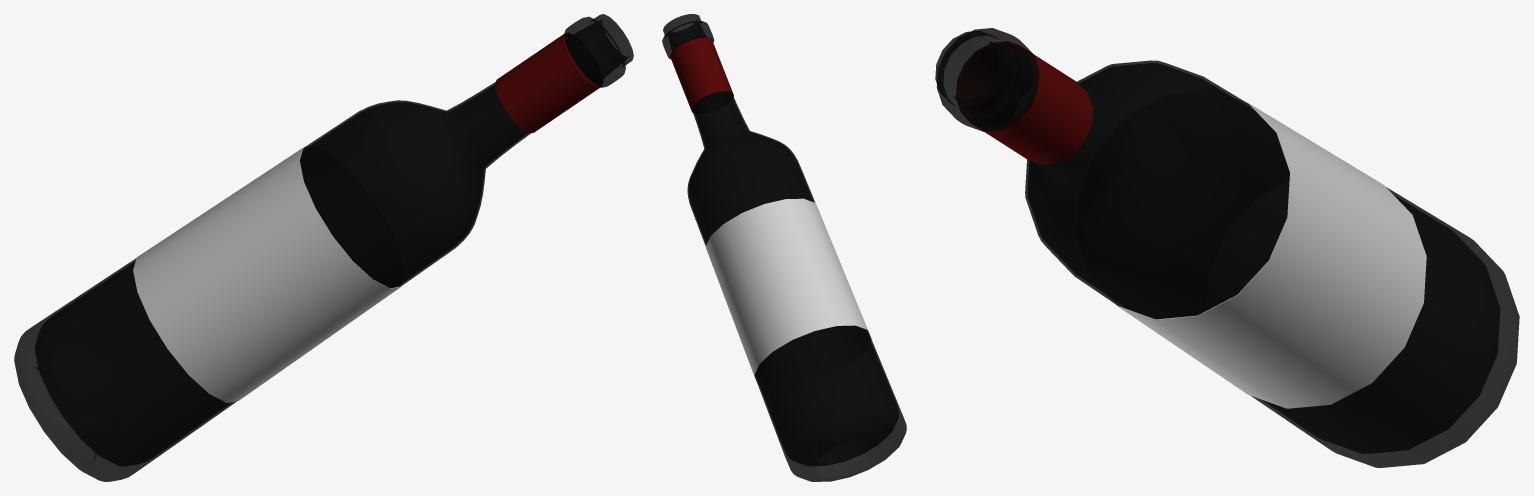
File: Winebottle.fbx
3 renders of one model, left to right at view 1: azimuth 30°, elevation 25°; view 2: azimuth 150°, elevation 25°; view 3: azimuth 270°, elevation 25°, orthographic. The views are drawn at different scales.
Visible parts, largest first — view 1: red wine bottle, red wine lable, red wine bottleneck; view 2: red wine bottle, red wine lable, red wine bottleneck; view 3: red wine bottle, red wine lable, red wine bottleneck.
Part boxes in pixels (x1,y1,x2,y2): red wine bottle: (14,14,633,481); red wine lable: (133,147,401,402); red wine bottleneck: (495,33,602,133); red wine bottle: (662,14,906,481); red wine lable: (705,198,871,381); red wine bottleneck: (670,38,733,112); red wine bottle: (935,28,1519,467); red wine lable: (1113,100,1426,408); red wine bottleneck: (956,42,1092,164).
Bounding box in the file's own units: 25.92 × 24.98 × 19.8.
